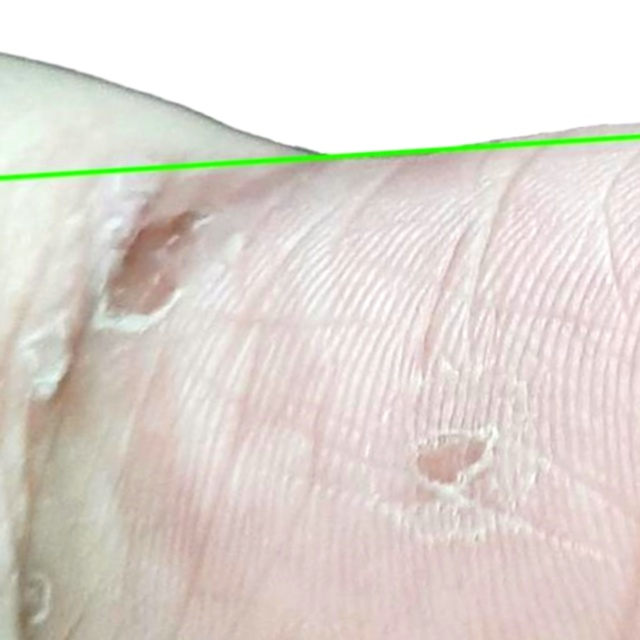Atopic Dermatitis: (0, 0, 639, 177)
